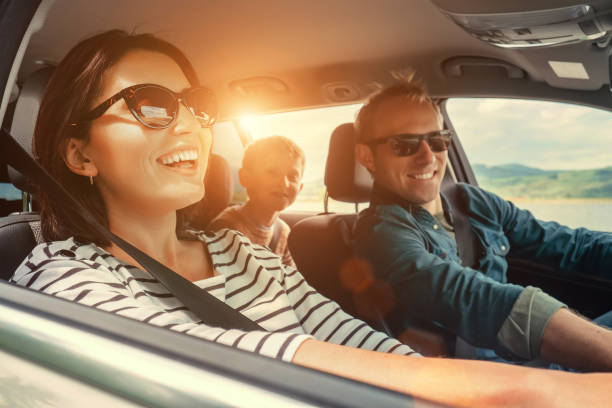without mask: (43, 44, 222, 219), (352, 82, 456, 209), (236, 138, 308, 213)
